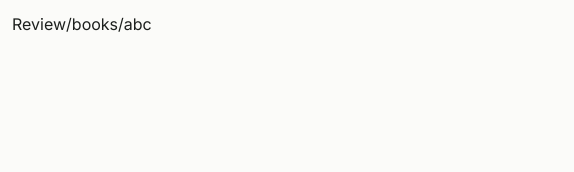
Test: SignInLink › adds intent and book id to query and router state
Click the link "Review". click: point(39, 24)
box: [12, 14, 66, 34]
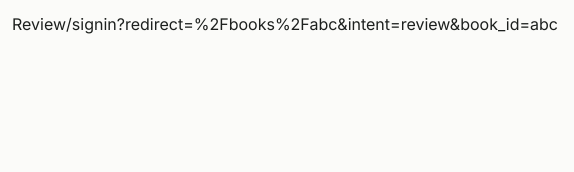
Expected: the text with test id "location" shows "/signin", [66, 14, 117, 34]
